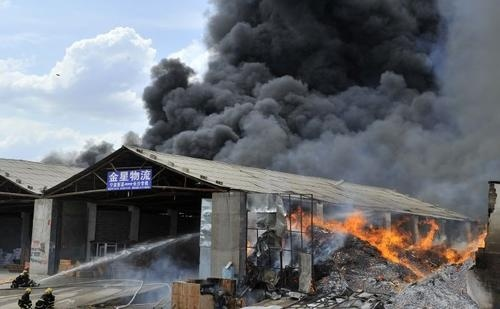fire: (293, 208, 491, 278)
